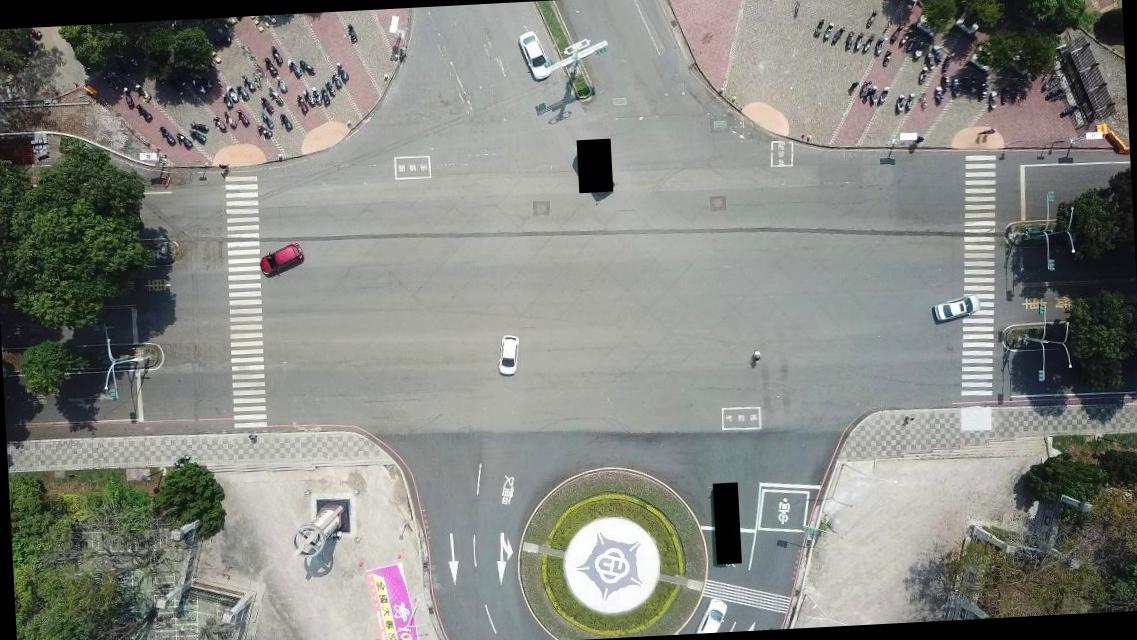vehicle: (518, 29, 550, 82), (258, 242, 303, 277), (934, 294, 982, 322), (692, 597, 728, 633), (496, 334, 522, 376)
